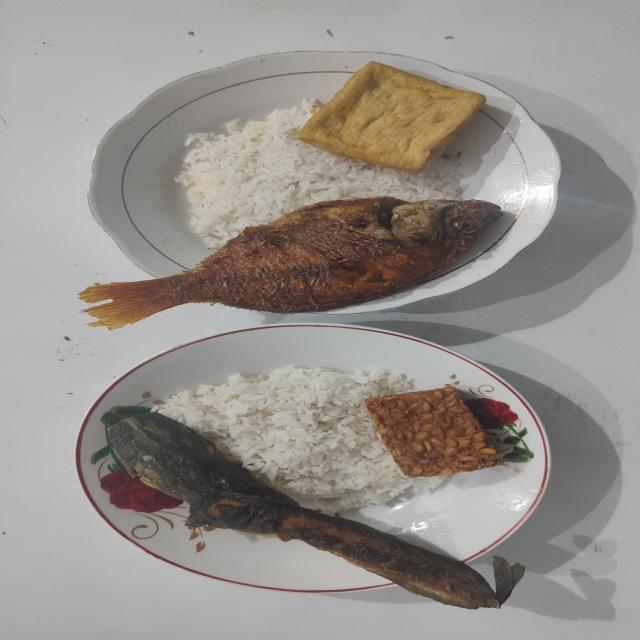ikan_mujair: (80, 196, 500, 328)
nasi_putih: (176, 100, 462, 250), (158, 365, 442, 512)
tahu_goreng: (298, 61, 484, 173)
tempe_goreng: (365, 385, 500, 477)
